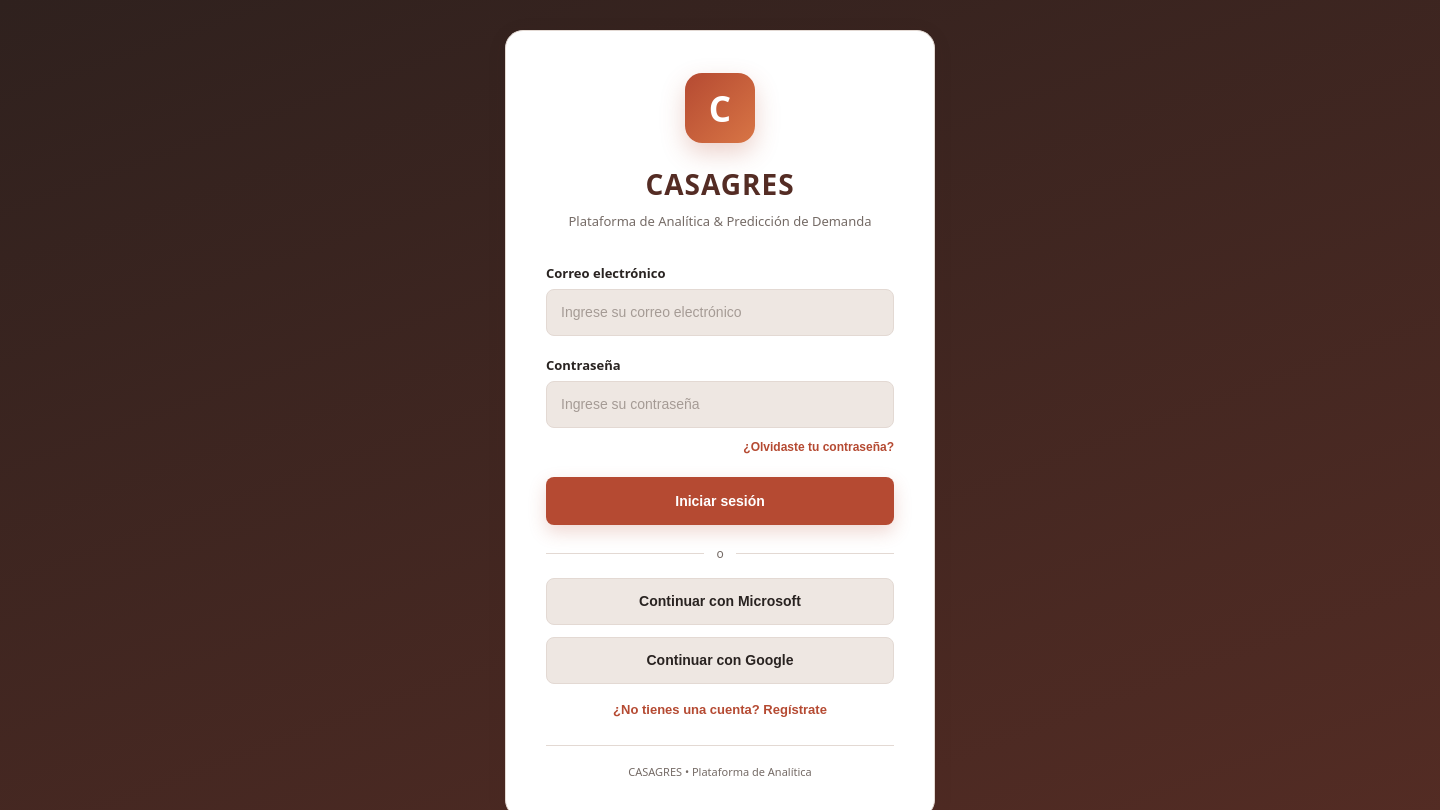
Test case: Login › muestra 'credenciales incorrectas' cuando el backend responde 401
In the field with placeholder "Ingrese su correo electrónico": (720, 312) left=546, top=288, right=894, bottom=336, type "jperez@ejemplo.com"
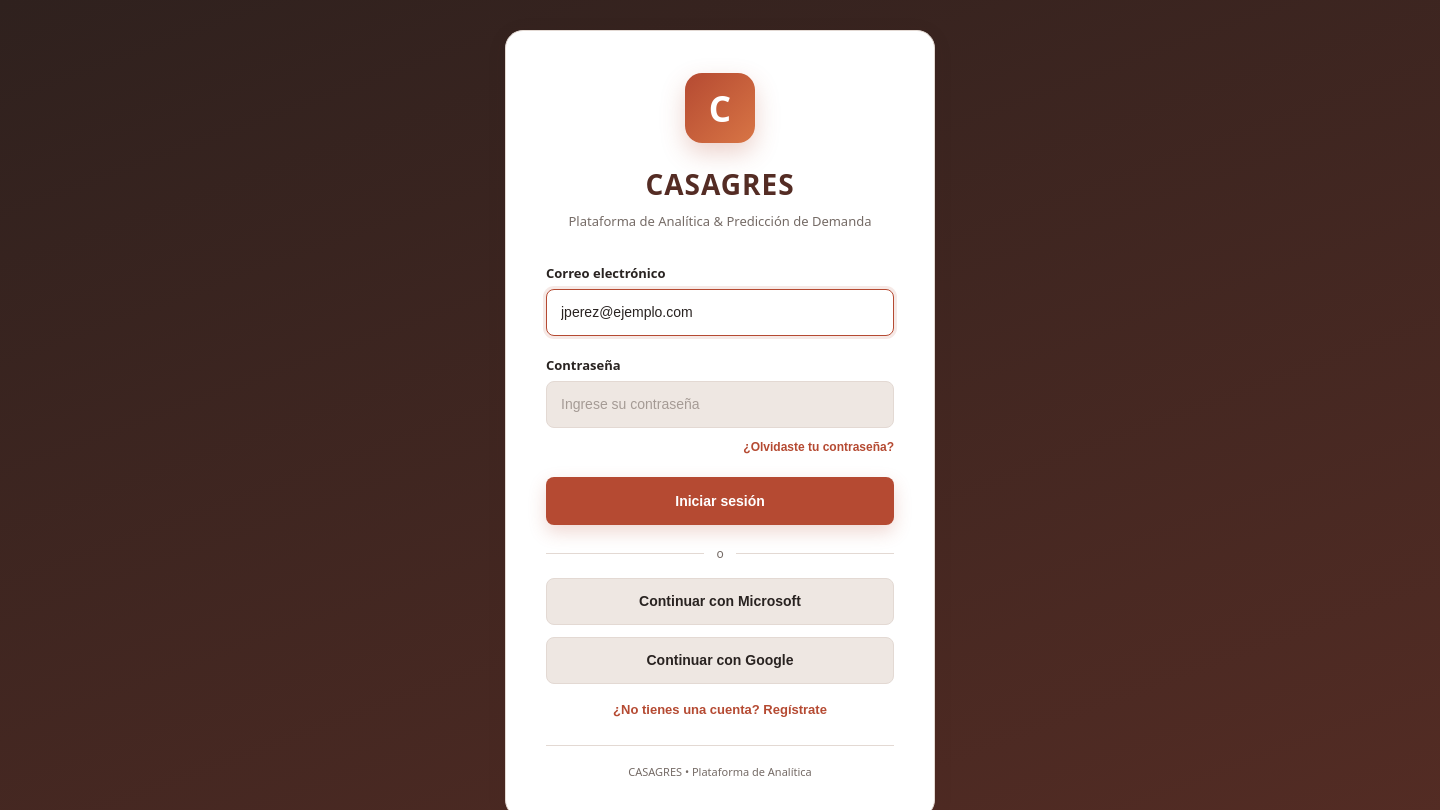
In the password field with placeholder "Ingrese su contraseña": (720, 404) left=546, top=380, right=894, bottom=428, type "mala-clave"
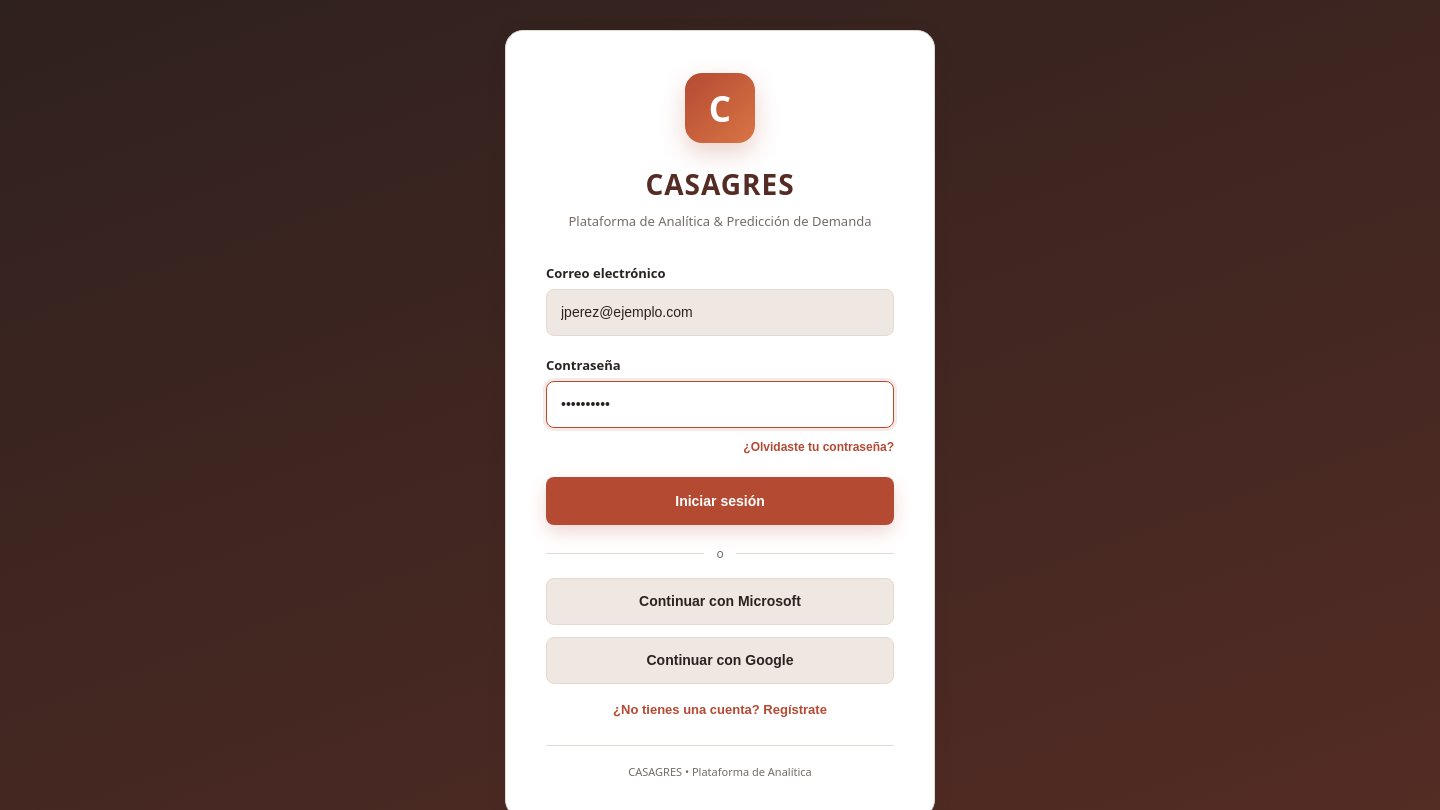
Click the button "Iniciar sesión": (720, 500) left=546, top=476, right=894, bottom=524
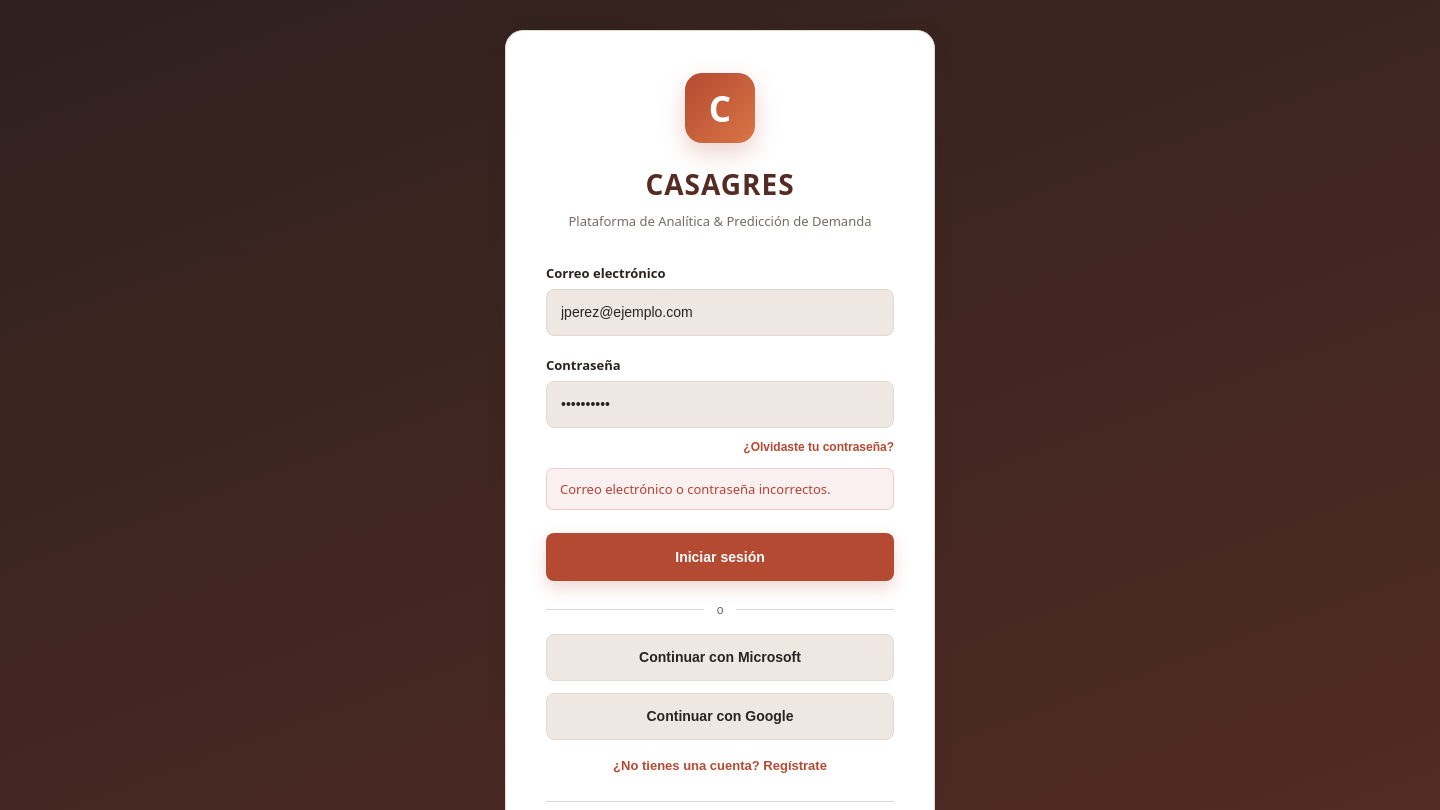
expect the text "Correo electrónico o contraseña incorrectos." is shown: met, box left=546, top=468, right=894, bottom=510
